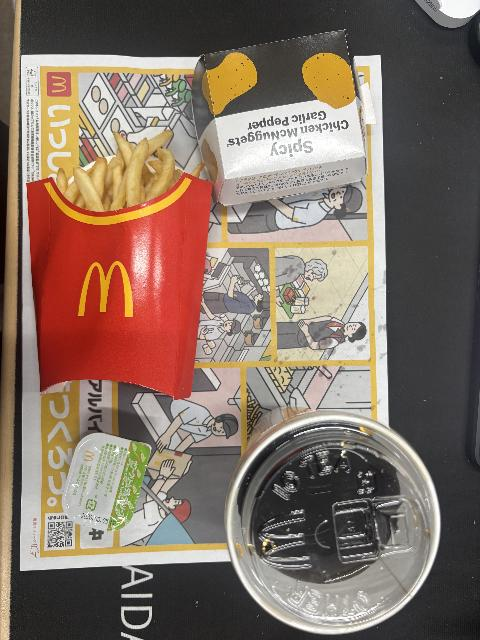drink: (227, 405, 442, 636)
fries: (27, 130, 212, 401)
nuggets: (193, 28, 370, 209)
sauce: (61, 431, 150, 532)
